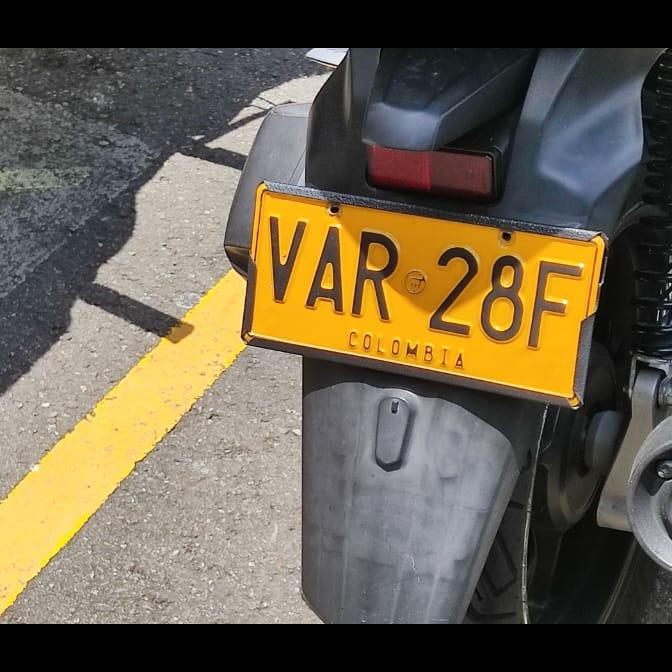plates: (239, 183, 602, 408)
